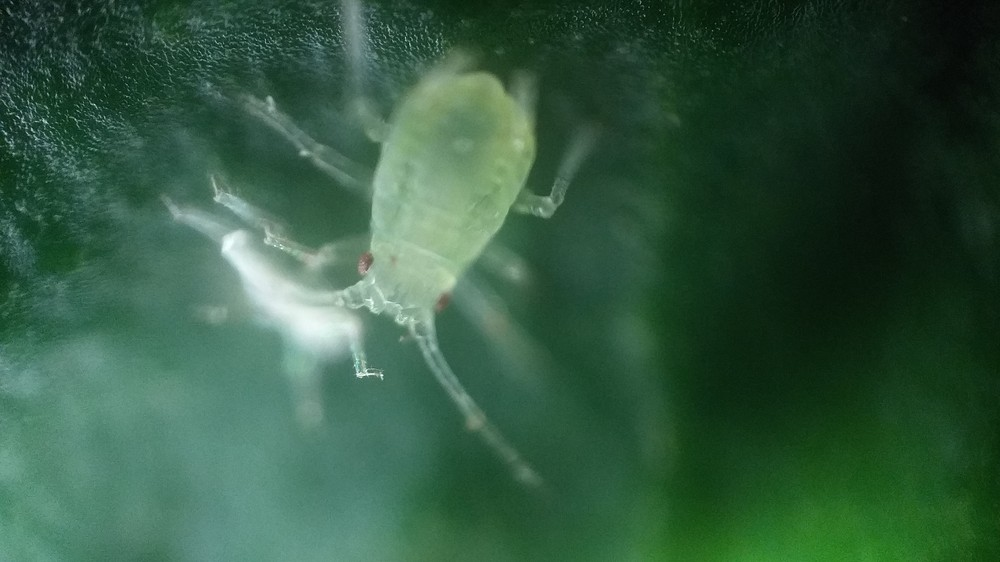Pulgon: (256, 13, 603, 481)
